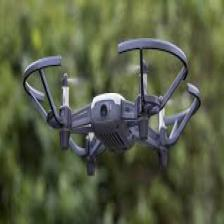drone: (25, 38, 201, 170)
